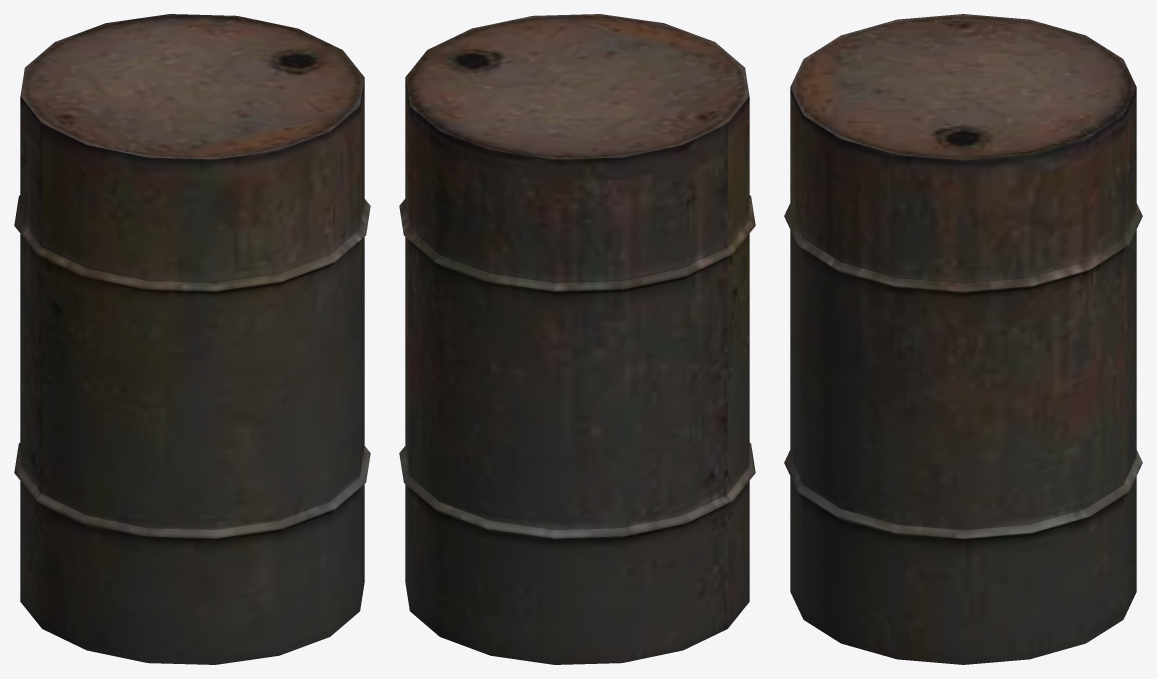
The model's file is oildrum001.glb.
3 views of the same model, side by side, from view 1: azimuth 30°, elevation 25°; view 2: azimuth 150°, elevation 25°; view 3: azimuth 270°, elevation 25° (orthographic).
Visible parts, largest first — view 1: 0_Oil_Drum001a; view 2: 0_Oil_Drum001a; view 3: 0_Oil_Drum001a.
Boxes of the visible parts, x1=… form: 0_Oil_Drum001a: x1=14, y1=14, x2=370, y2=664; 0_Oil_Drum001a: x1=399, y1=14, x2=755, y2=664; 0_Oil_Drum001a: x1=784, y1=14, x2=1142, y2=664.
Bounding box in the file's own units: 0.7366 × 1.14 × 0.7366.
Materials: 1 (1 with a texture image).
